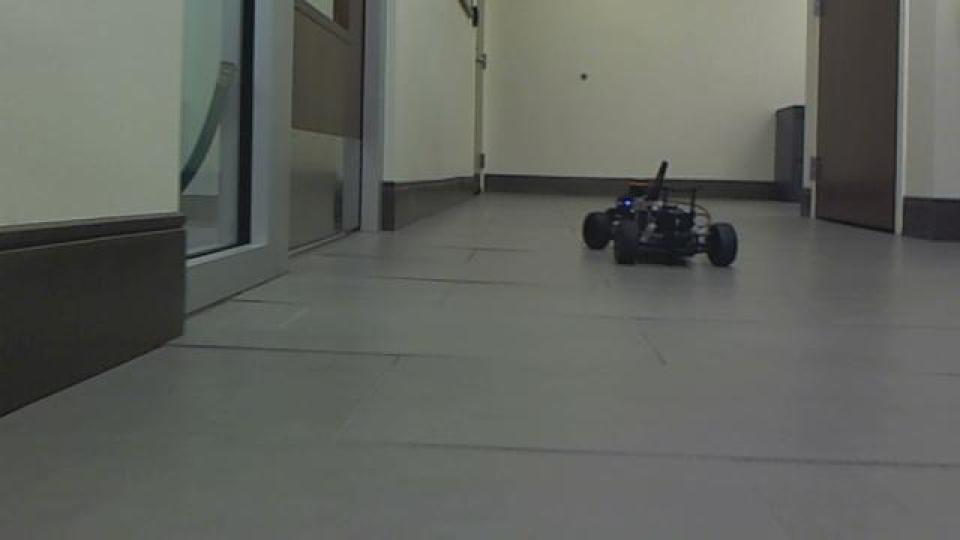car: (577, 157, 741, 272)
